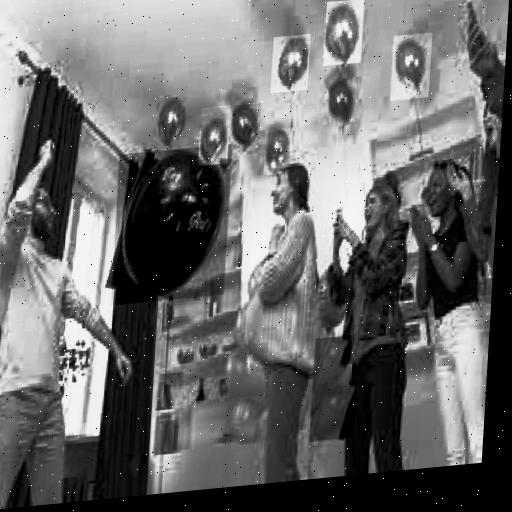balloon: (111, 144, 233, 305), (309, 380, 357, 442), (390, 32, 432, 101), (323, 0, 364, 66), (312, 335, 352, 397), (270, 34, 311, 93), (223, 396, 270, 445), (229, 342, 268, 399), (152, 95, 190, 149), (198, 105, 231, 166), (327, 79, 359, 127), (264, 127, 293, 175), (231, 103, 261, 149)
